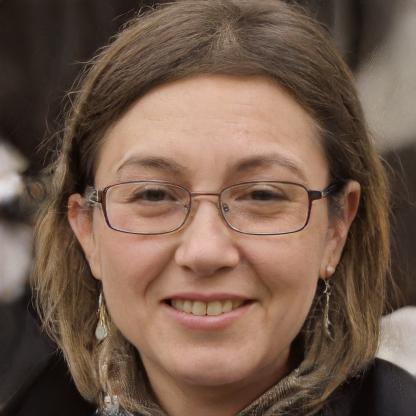glasses: (96, 172, 322, 236)
